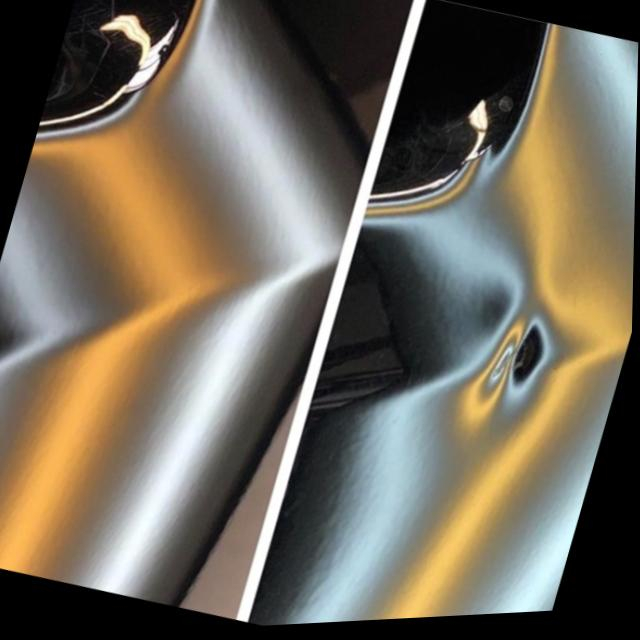Dent: (470, 304, 595, 429)
